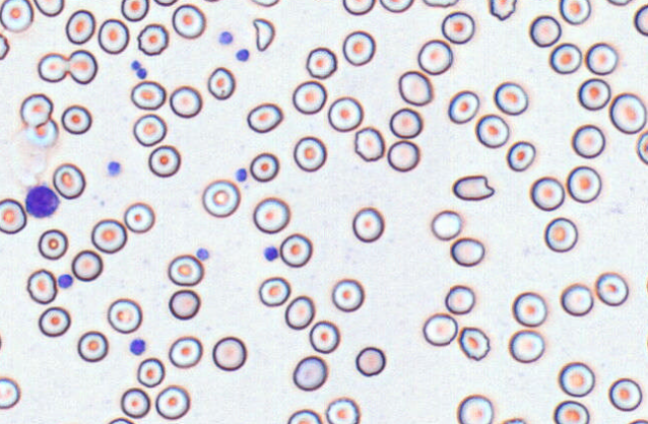LYM: (24, 183, 60, 219)
PLT: (54, 273, 77, 292), (128, 338, 147, 357), (105, 161, 122, 178), (264, 246, 279, 262), (219, 30, 233, 44), (236, 49, 250, 63), (195, 248, 209, 262), (234, 167, 247, 182), (136, 66, 148, 80), (130, 59, 142, 71)
RBC: (609, 92, 646, 134), (201, 179, 240, 217), (252, 196, 290, 233), (558, 361, 595, 397), (566, 165, 601, 203), (397, 70, 433, 106), (327, 96, 363, 132), (417, 39, 453, 75), (511, 291, 547, 327), (90, 218, 127, 253), (292, 355, 327, 391), (107, 297, 142, 333), (529, 176, 564, 211), (155, 384, 190, 419), (508, 329, 544, 363), (171, 3, 205, 39), (544, 216, 578, 252), (52, 162, 85, 199), (293, 135, 326, 172), (422, 312, 457, 346), (212, 336, 246, 371), (571, 123, 605, 158), (475, 113, 509, 148), (493, 81, 528, 115), (342, 30, 375, 66), (19, 93, 53, 127), (292, 80, 326, 114), (608, 377, 642, 411), (279, 232, 312, 267), (595, 271, 628, 306), (97, 18, 129, 54), (352, 206, 384, 242), (167, 254, 203, 286), (132, 113, 166, 146), (577, 77, 611, 110), (331, 278, 364, 312), (457, 326, 490, 360), (168, 335, 202, 368), (560, 282, 593, 316), (585, 41, 618, 75), (447, 89, 479, 124), (26, 268, 57, 304), (169, 85, 202, 118), (387, 139, 420, 172), (441, 11, 474, 44), (353, 126, 384, 161), (130, 80, 166, 110), (456, 394, 493, 423), (0, 0, 33, 32), (148, 144, 180, 177), (529, 14, 561, 47), (308, 320, 340, 353), (549, 42, 582, 74), (305, 46, 337, 79), (284, 295, 315, 329), (65, 9, 95, 44), (136, 23, 168, 55), (389, 107, 422, 138), (450, 236, 484, 266), (68, 49, 97, 84), (37, 228, 68, 260), (71, 249, 102, 281), (168, 289, 200, 320), (38, 306, 70, 337), (430, 209, 462, 240), (77, 330, 108, 362), (123, 201, 154, 233), (258, 276, 290, 306), (25, 118, 58, 147), (207, 66, 235, 100), (0, 198, 26, 234), (37, 52, 68, 82), (120, 387, 150, 418), (61, 104, 92, 134), (444, 284, 475, 314), (355, 346, 385, 376), (249, 152, 279, 182), (506, 140, 535, 171), (325, 397, 359, 423), (553, 399, 589, 423), (136, 357, 164, 387), (559, 0, 591, 25), (0, 376, 20, 409), (120, 0, 149, 21), (488, 0, 516, 20), (286, 408, 322, 423), (33, 0, 64, 16), (633, 3, 648, 36), (342, 0, 375, 15), (635, 129, 648, 165), (379, 0, 413, 13), (421, 0, 458, 7), (0, 32, 9, 60), (106, 416, 135, 424), (250, 0, 280, 7), (500, 417, 526, 424), (605, 0, 634, 6), (153, 0, 178, 6), (645, 327, 648, 365), (626, 418, 647, 423), (645, 268, 648, 302), (0, 326, 3, 356), (309, 0, 337, 2), (200, 0, 223, 2)
Schistocyte: (450, 174, 499, 204), (252, 19, 277, 53)
